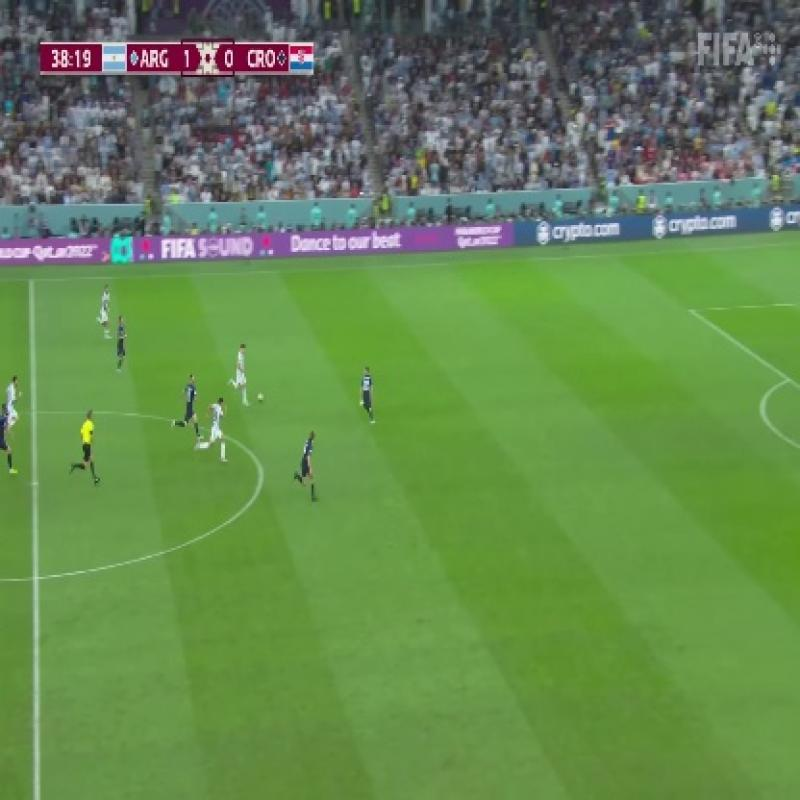10: (777, 364, 796, 390)
13: (22, 266, 40, 290)
14: (23, 396, 42, 421)
15: (19, 556, 48, 596)
9: (679, 296, 700, 323)
c: (244, 458, 279, 488)
